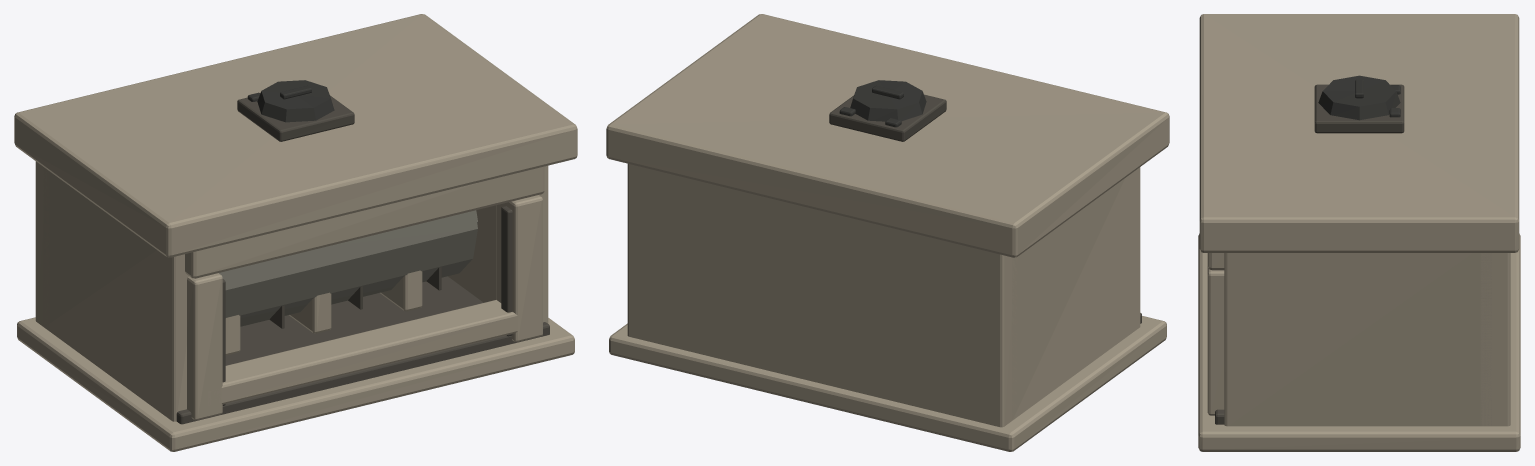
Rendered from Cistern.glb.
3 views of the same model, side by side, from view 1: azimuth 30°, elevation 25°; view 2: azimuth 150°, elevation 25°; view 3: azimuth 270°, elevation 25° (orthographic). The views are drawn at different scales.
Visible parts, largest first — view 1: cistern-static-cistern-warm-concrete-mat, cistern-static-cistern-cutaway-concrete-mat, cistern-static-cistern-tank-grey-mat, cistern-static-cistern-charcoal-hatch-mat; view 2: cistern-static-cistern-warm-concrete-mat, cistern-static-cistern-charcoal-hatch-mat, cistern-static-cistern-cutaway-concrete-mat; view 3: cistern-static-cistern-warm-concrete-mat, cistern-static-cistern-charcoal-hatch-mat, cistern-static-cistern-cutaway-concrete-mat.
Part boxes in pixels (left/top/right/bottom): cistern-static-cistern-warm-concrete-mat: left=14, top=14, right=577, bottom=451; cistern-static-cistern-cutaway-concrete-mat: left=176, top=95, right=549, bottom=424; cistern-static-cistern-tank-grey-mat: left=219, top=210, right=477, bottom=326; cistern-static-cistern-charcoal-hatch-mat: left=247, top=80, right=334, bottom=122; cistern-static-cistern-warm-concrete-mat: left=606, top=14, right=1169, bottom=451; cistern-static-cistern-charcoal-hatch-mat: left=839, top=80, right=926, bottom=127; cistern-static-cistern-cutaway-concrete-mat: left=829, top=94, right=1141, bottom=323; cistern-static-cistern-warm-concrete-mat: left=1198, top=14, right=1520, bottom=451; cistern-static-cistern-charcoal-hatch-mat: left=1318, top=75, right=1400, bottom=120; cistern-static-cistern-cutaway-concrete-mat: left=1215, top=84, right=1404, bottom=424.
Size of the model in its own units: 3.98 by 2.38 by 2.62.
